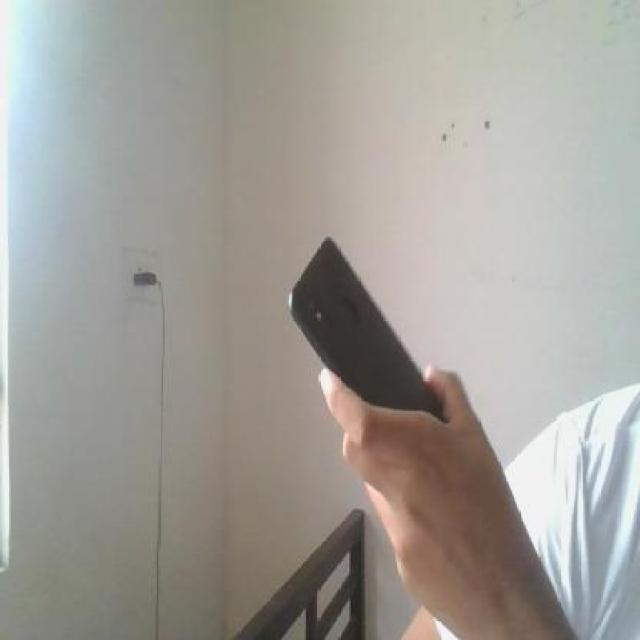Phone: (284, 236, 443, 423)
